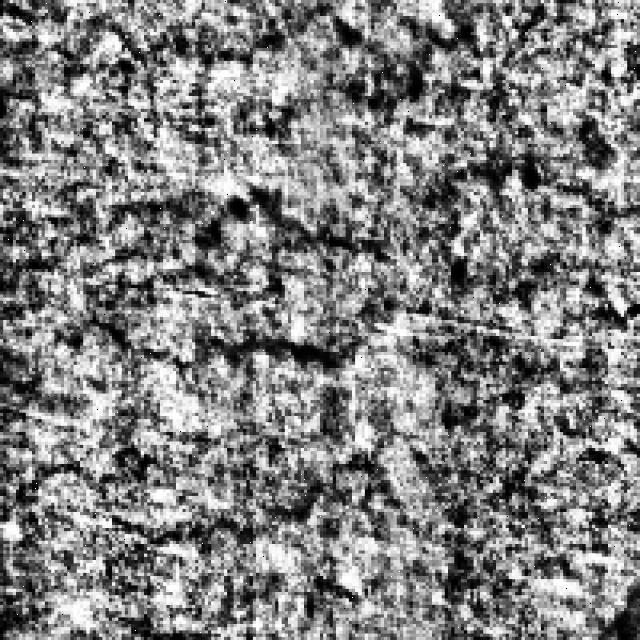Pitted_Surface: (3, 179, 451, 378), (403, 336, 634, 611), (77, 3, 490, 144), (368, 138, 634, 332)
